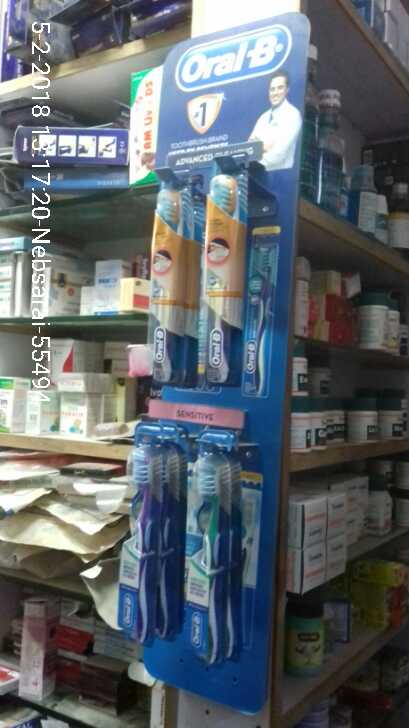oralb: (188, 430, 249, 661), (202, 157, 243, 391), (121, 442, 166, 649), (138, 193, 178, 381)
